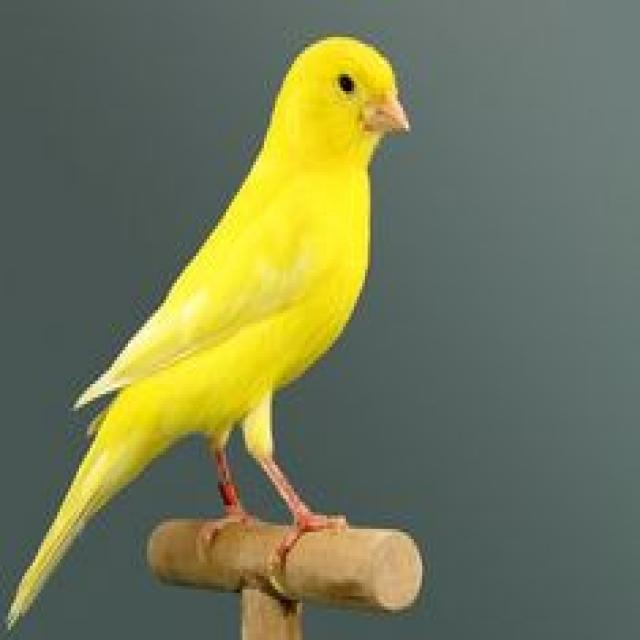Herbivorous: (8, 37, 411, 633)
